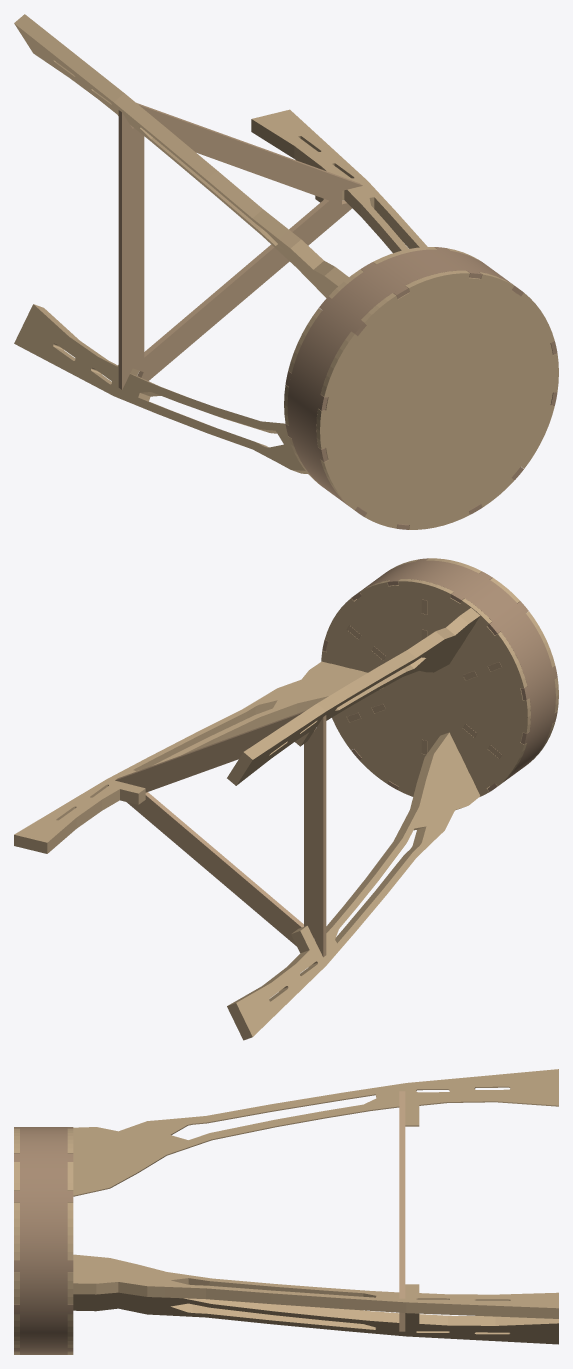
The model's file is pst-230-v3-design-only.glb.
3 renders of one model, top to bottom at view 1: azimuth 30°, elevation 25°; view 2: azimuth 150°, elevation 25°; view 3: azimuth 270°, elevation 25°, orthographic. The views are drawn at different scales.
Parts seen in each view (by area): view 1: TOP_DISC_D230_RIM_TABS_ONLY_6MM, LOWER_TRIANGLE_ONE_PIECE_6MM, LEG_3_A_6MM, LEG_2_B_6MM, RIM_03_BIRCH4_UPPER_LOWER_TABS, LEG_1_B_6MM, RIM_02_BIRCH4_UPPER_LOWER_TABS, LEG_2_A_6MM, RIM_04_BIRCH4_UPPER_LOWER_TABS, BOTTOM_DISC_D230_6MM, LEG_1_A_6MM; view 2: BOTTOM_DISC_D230_6MM, LOWER_TRIANGLE_ONE_PIECE_6MM, LEG_3_A_6MM, LEG_1_B_6MM, LEG_2_B_6MM, RIM_03_BIRCH4_UPPER_LOWER_TABS, RIM_02_BIRCH4_UPPER_LOWER_TABS, LEG_2_A_6MM, LEG_3_B_6MM, LEG_1_A_6MM, RIM_04_BIRCH4_UPPER_LOWER_TABS, TOP_DISC_D230_RIM_TABS_ONLY_6MM; view 3: LEG_2_A_6MM, LEG_1_B_6MM, LEG_3_B_6MM, RIM_01_BIRCH4_UPPER_LOWER_TABS, RIM_06_BIRCH4_UPPER_LOWER_TABS, LEG_1_A_6MM, RIM_02_BIRCH4_UPPER_LOWER_TABS, LOWER_TRIANGLE_ONE_PIECE_6MM, LEG_3_A_6MM, BOTTOM_DISC_D230_6MM, TOP_DISC_D230_RIM_TABS_ONLY_6MM, LEG_2_B_6MM.
Part boxes in pixels (x1,y1,x2,y2): TOP_DISC_D230_RIM_TABS_ONLY_6MM: (316,270,558,529); LOWER_TRIANGLE_ONE_PIECE_6MM: (118,102,362,389); LEG_3_A_6MM: (14,304,306,472); LEG_2_B_6MM: (14,18,343,297); RIM_03_BIRCH4_UPPER_LOWER_TABS: (285,284,375,427); LEG_1_B_6MM: (251,109,427,251); RIM_02_BIRCH4_UPPER_LOWER_TABS: (347,247,494,304); LEG_2_A_6MM: (19,14,348,281); RIM_04_BIRCH4_UPPER_LOWER_TABS: (285,407,366,516); BOTTOM_DISC_D230_6MM: (284,247,480,485); LEG_1_A_6MM: (251,125,413,253); BOTTOM_DISC_D230_6MM: (321,579,530,796); LOWER_TRIANGLE_ONE_PIECE_6MM: (115,710,326,957); LEG_3_A_6MM: (231,732,479,1038); LEG_1_B_6MM: (14,661,367,848); LEG_2_B_6MM: (231,612,480,785); RIM_03_BIRCH4_UPPER_LOWER_TABS: (479,591,557,714); RIM_02_BIRCH4_UPPER_LOWER_TABS: (376,558,503,608); LEG_2_A_6MM: (227,608,475,781); LEG_3_B_6MM: (227,734,458,1040); LEG_1_A_6MM: (14,687,383,853); RIM_04_BIRCH4_UPPER_LOWER_TABS: (487,697,557,791); TOP_DISC_D230_RIM_TABS_ONLY_6MM: (389,558,558,764); LEG_2_A_6MM: (73,1069,558,1196); LEG_1_B_6MM: (73,1254,558,1313); LEG_3_B_6MM: (73,1292,558,1344); RIM_01_BIRCH4_UPPER_LOWER_TABS: (14,1175,73,1288); RIM_06_BIRCH4_UPPER_LOWER_TABS: (14,1289,73,1354); LEG_1_A_6MM: (73,1283,558,1318); RIM_02_BIRCH4_UPPER_LOWER_TABS: (14,1127,73,1175); LOWER_TRIANGLE_ONE_PIECE_6MM: (399,1091,405,1331); LEG_3_A_6MM: (181,1300,551,1322); BOTTOM_DISC_D230_6MM: (67,1127,73,1354); TOP_DISC_D230_RIM_TABS_ONLY_6MM: (14,1127,19,1354); LEG_2_B_6MM: (73,1087,558,1196).
Bounding box in the file's own units: 0.2886 × 0.3067 × 0.55.
